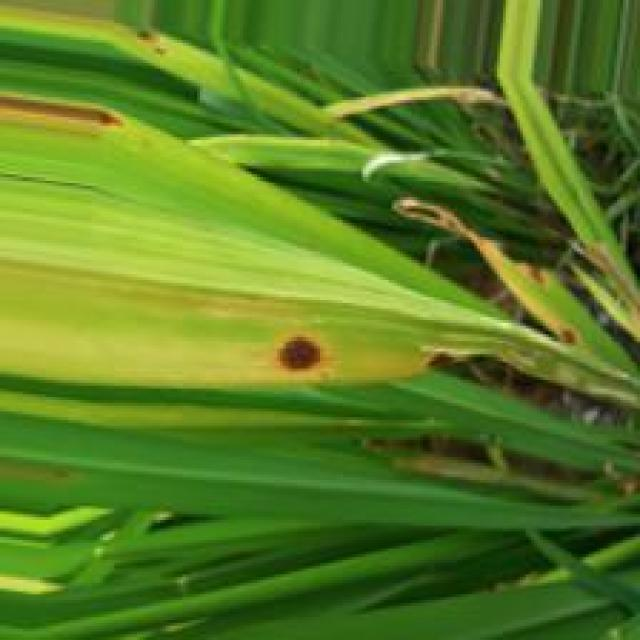Brown_Spot: (2, 94, 128, 128), (270, 331, 331, 375)
